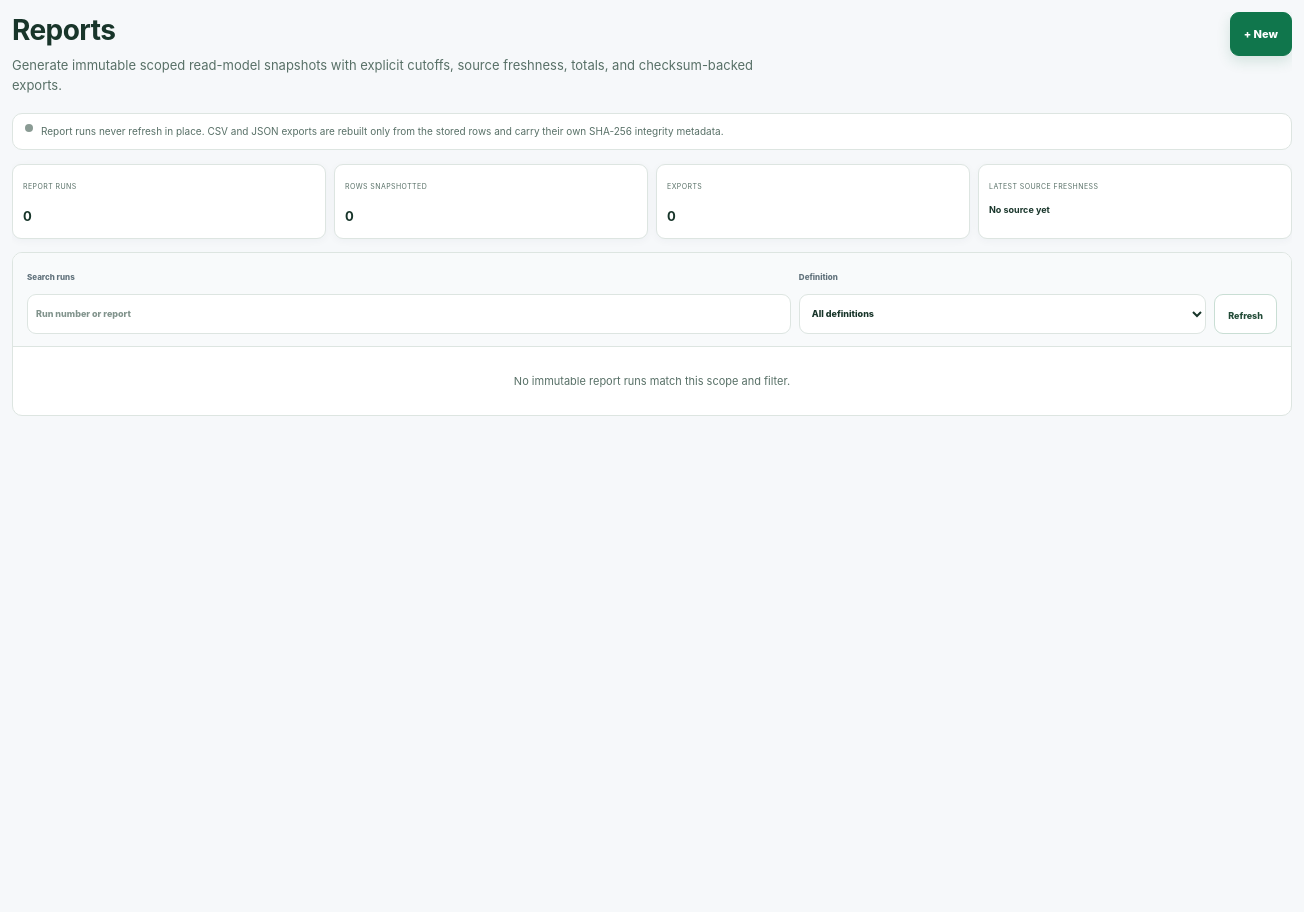
Test: Controlled reporting workspace › generates a cutoff-bound snapshot with definition parameters
The width and height of the screenshot is (1304, 912).
Check: the heading "Reports" is shown, box x1=12 y1=13 x2=115 y2=47
Check: the text "never refresh in place" is shown, box x1=41 y1=125 x2=724 y2=137
Click the button "+ New": x=1261, y=34 x1=1230 y1=12 x2=1292 y2=56
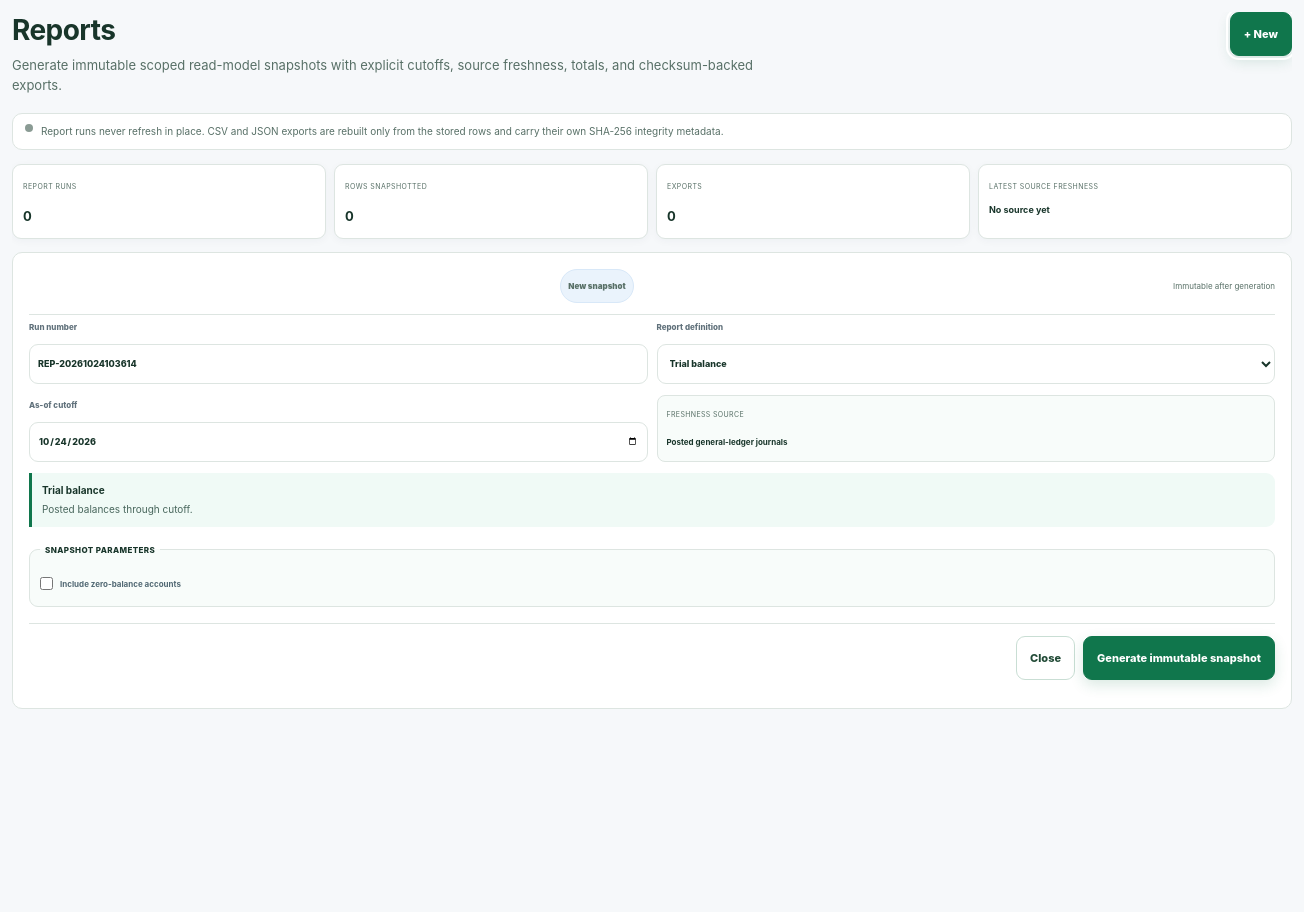
Replace the text in the field named "Report run number" with "rep-ui-001": x=338, y=364 x1=29 y1=344 x2=648 y2=384
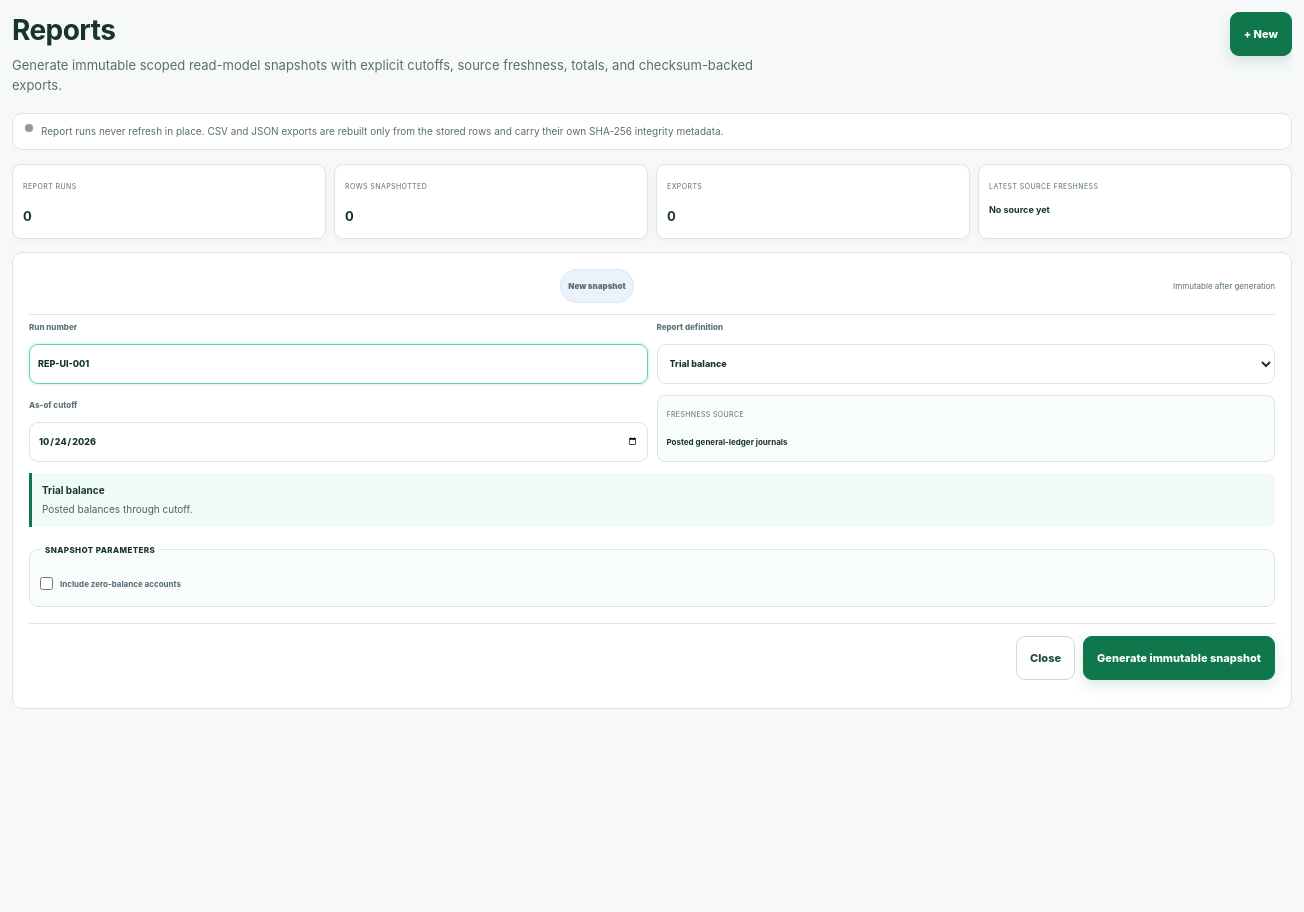
Click the checkbox labelled "Include zero-balance accounts": x=46, y=584 x1=40 y1=577 x2=53 y2=590
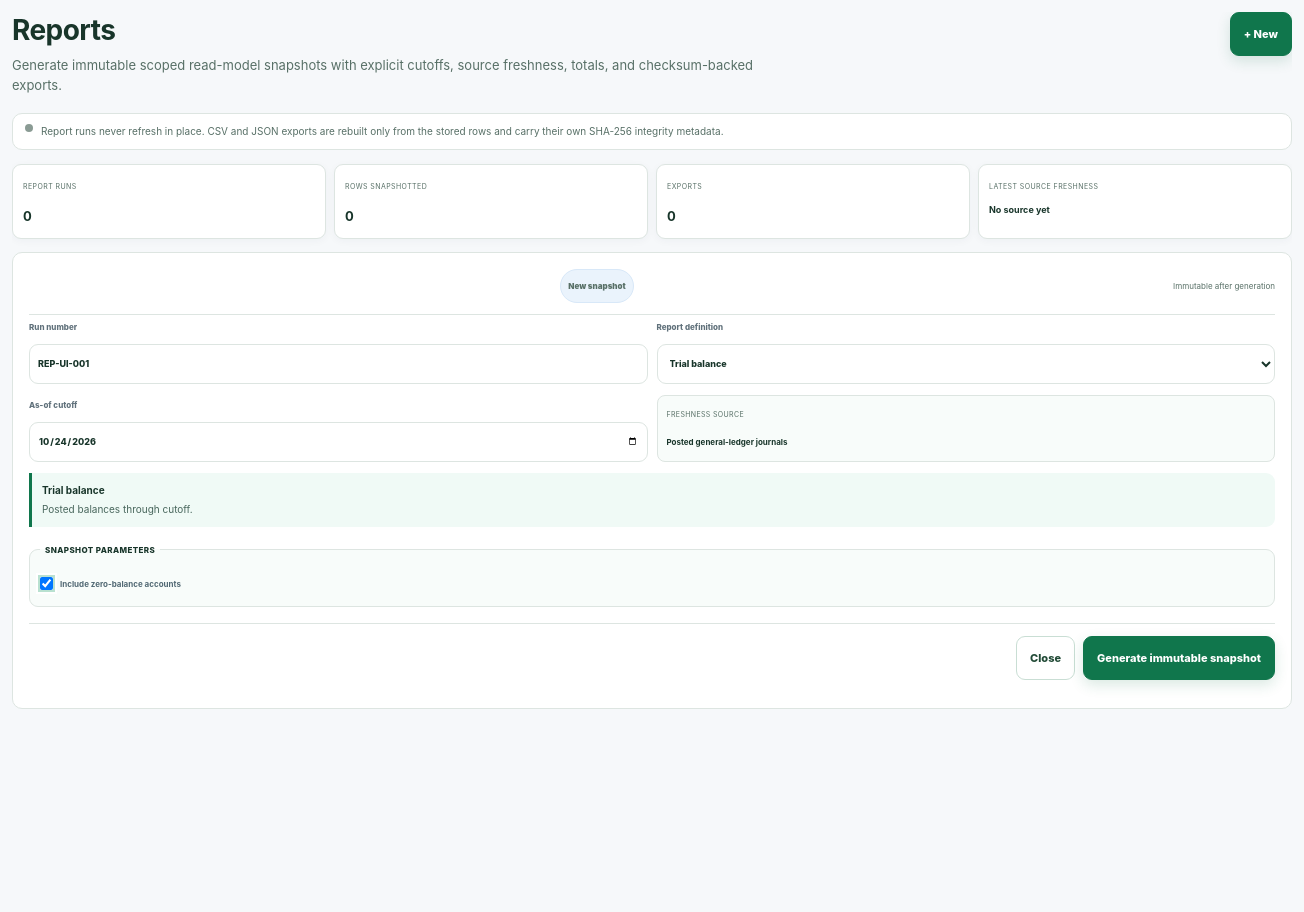
Click the button "Generate immutable snapshot": x=1179, y=658 x1=1083 y1=636 x2=1275 y2=680
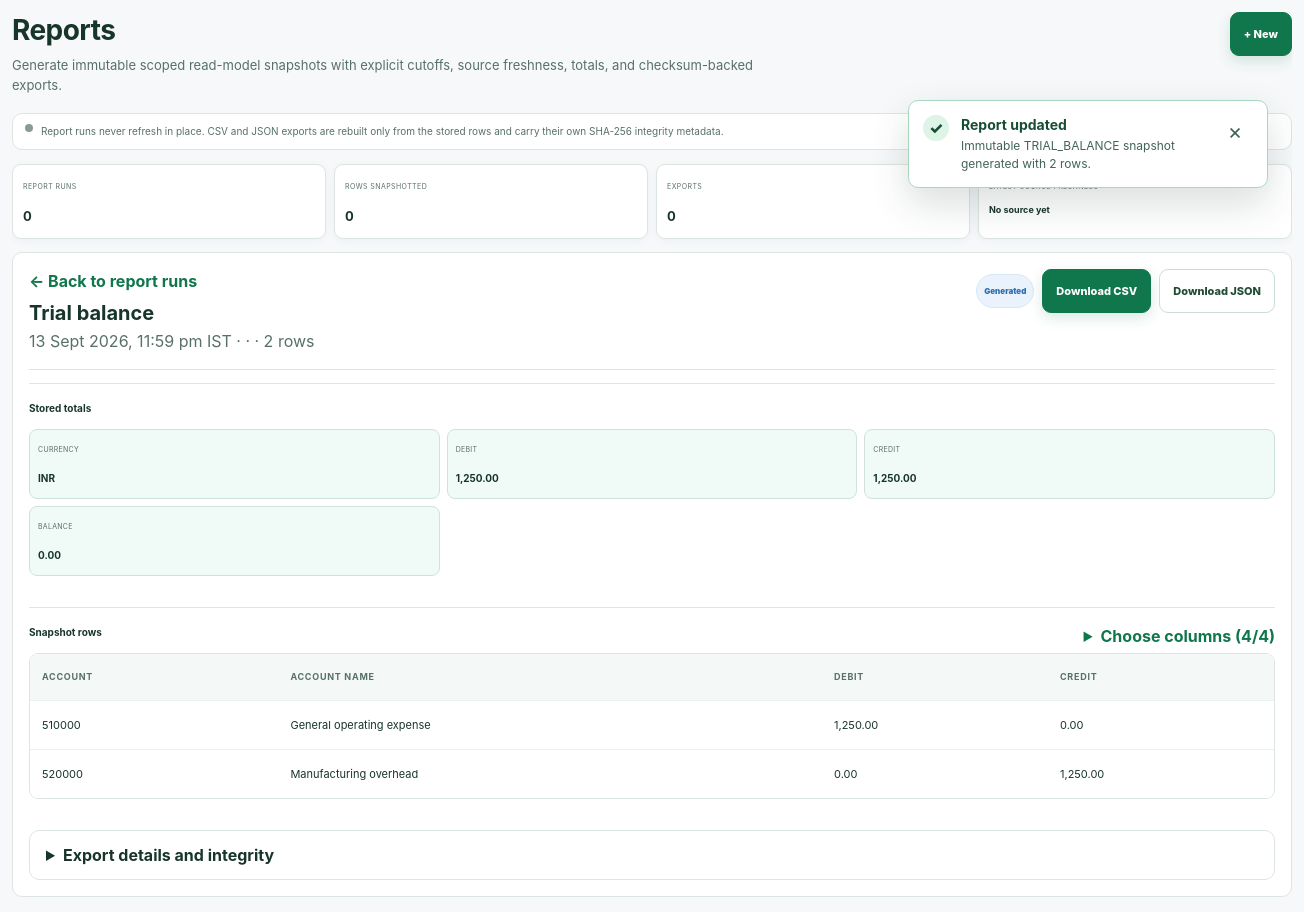
Check: the text "Immutable TRIAL_BALANCE snapshot generated with 2 rows." is shown, box x1=961 y1=137 x2=1207 y2=173
